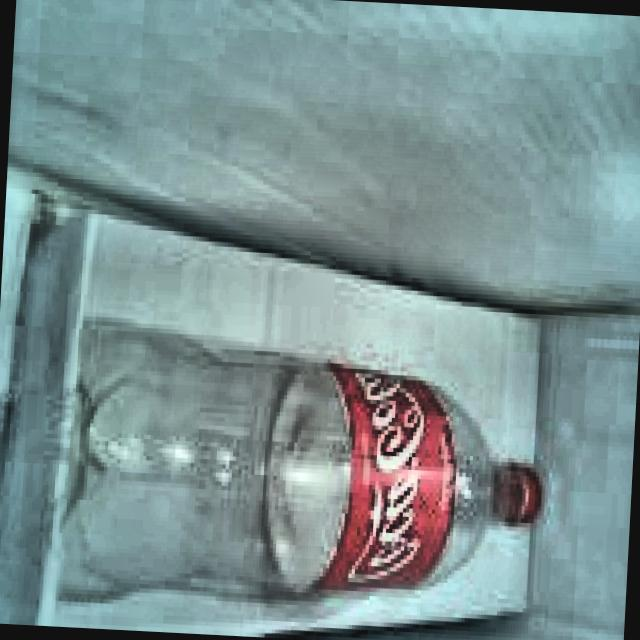plastic bottle: (62, 325, 549, 599)
